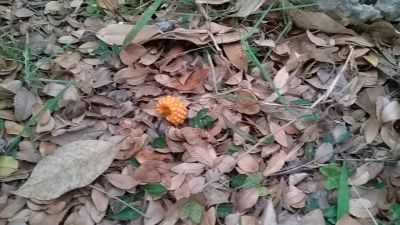eggs: (157, 95, 188, 124)
